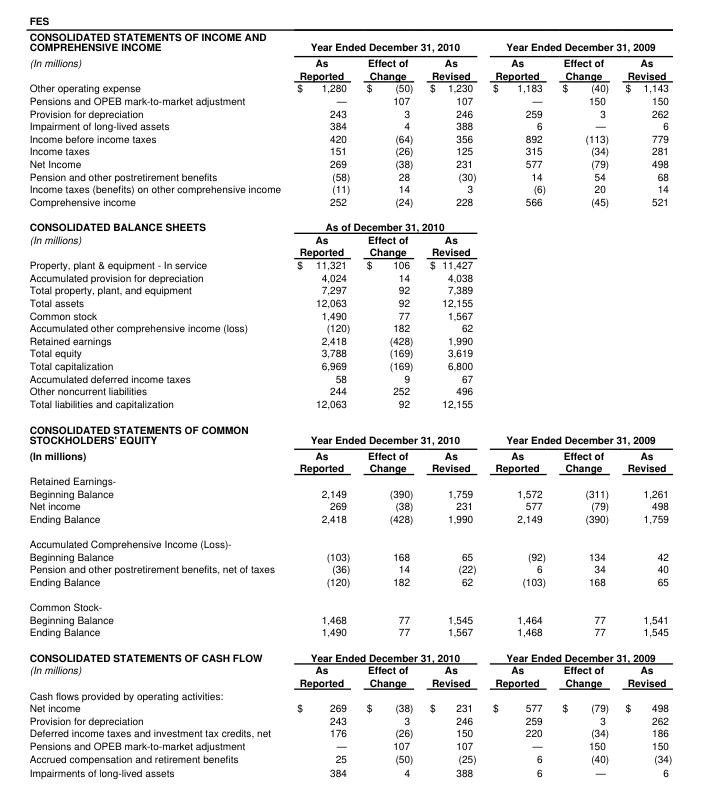table: (28, 29, 671, 778)
table column: (28, 29, 288, 778), (483, 29, 553, 778), (288, 29, 357, 778), (357, 29, 420, 778), (420, 29, 483, 778), (553, 29, 616, 778), (616, 29, 671, 778)
table column header: (28, 29, 671, 81)
table projected row header: (28, 530, 671, 549), (28, 593, 671, 612), (28, 473, 671, 486), (28, 688, 671, 701)
table row: (28, 415, 671, 446), (28, 54, 671, 81), (28, 29, 671, 54), (28, 194, 671, 213), (28, 213, 671, 232), (28, 396, 671, 415), (28, 511, 671, 530), (28, 530, 671, 549), (28, 574, 671, 593), (28, 593, 671, 612), (28, 625, 671, 644), (28, 644, 671, 663), (28, 446, 671, 461), (28, 764, 671, 778), (28, 93, 671, 106), (28, 118, 671, 131), (28, 131, 671, 144), (28, 156, 671, 169), (28, 169, 671, 182), (28, 232, 671, 245), (28, 257, 671, 270), (28, 270, 671, 283), (28, 295, 671, 308), (28, 320, 671, 333), (28, 333, 671, 346), (28, 358, 671, 371), (28, 371, 671, 384), (28, 473, 671, 486), (28, 498, 671, 511), (28, 549, 671, 562), (28, 612, 671, 625), (28, 675, 671, 688), (28, 688, 671, 701), (28, 713, 671, 726), (28, 738, 671, 751), (28, 751, 671, 764), (28, 81, 671, 93), (28, 106, 671, 118), (28, 144, 671, 156), (28, 182, 671, 194), (28, 245, 671, 257), (28, 283, 671, 295), (28, 308, 671, 320), (28, 346, 671, 358), (28, 384, 671, 396), (28, 461, 671, 473), (28, 486, 671, 498), (28, 562, 671, 574), (28, 663, 671, 675), (28, 701, 671, 713), (28, 726, 671, 738)
table spanning cell: (28, 29, 288, 81), (288, 415, 483, 446), (483, 415, 671, 446), (288, 29, 483, 54), (483, 29, 671, 54), (288, 213, 483, 232), (288, 644, 483, 663), (483, 644, 671, 663)
